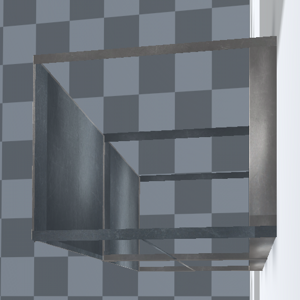Rack: (20, 27, 270, 265)
